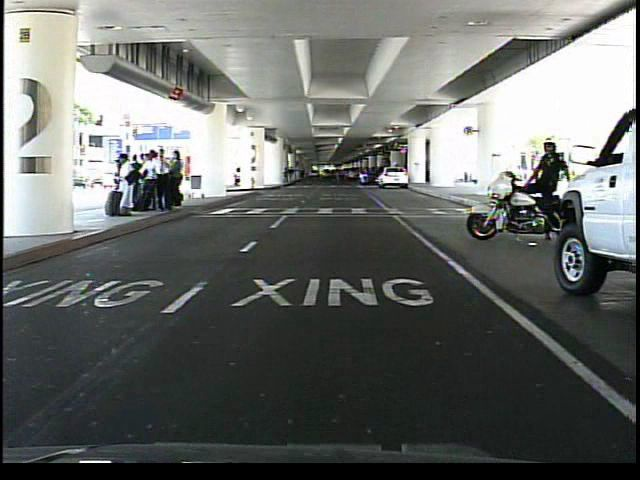person: (527, 131, 570, 246)
